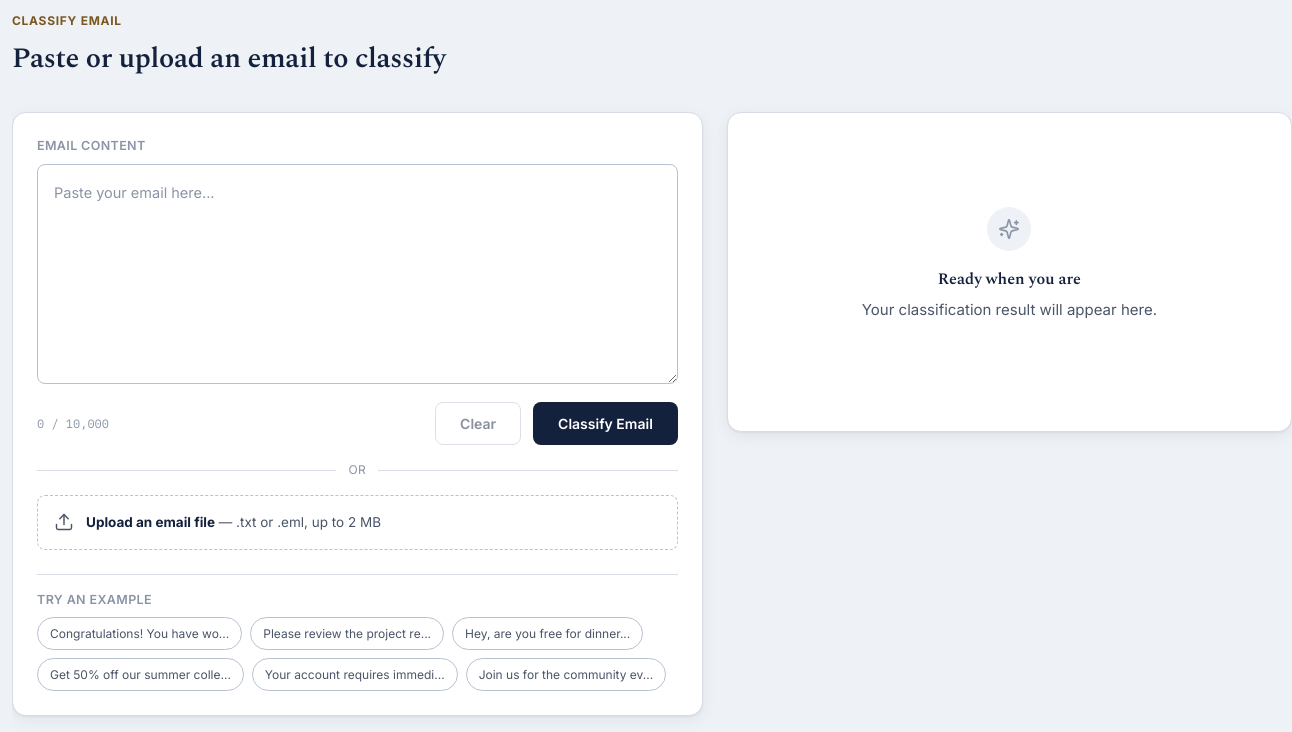
Test: ClassifyEmail › shows the prediction result after a successful classification
Type "You won a free prize!" into the text box labelled "Email content".
click(357, 274); type("You won a free prize!")  # box x1=37 y1=164 x2=678 y2=384
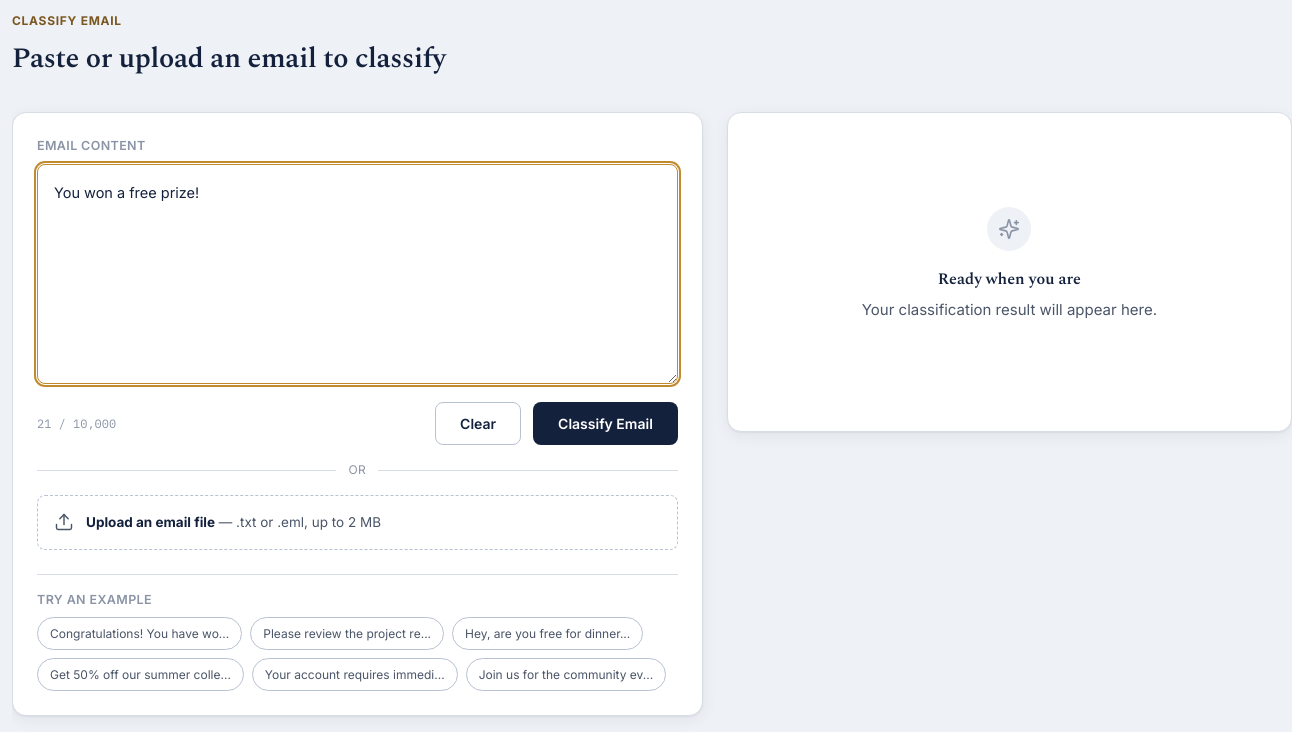
Click the button "Classify Email".
click(605, 424)  # box x1=533 y1=402 x2=678 y2=445
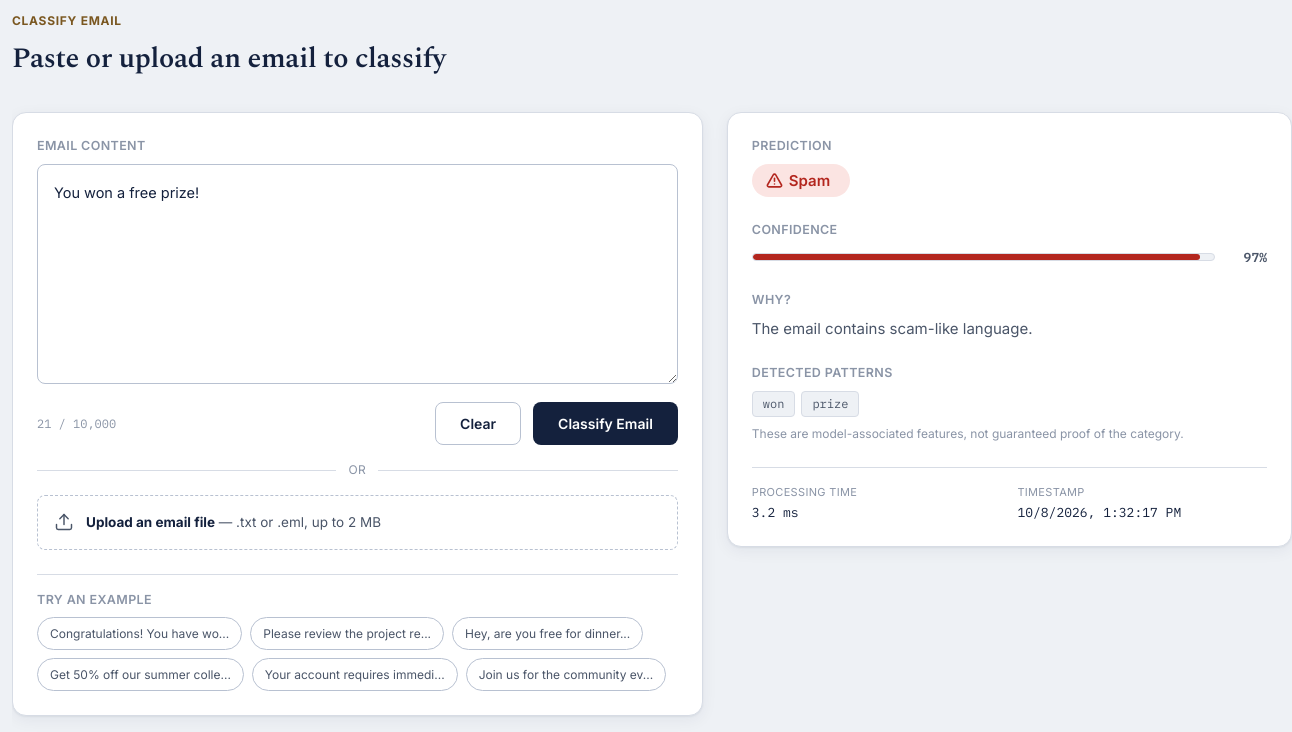
Expected: the text "Spam" is shown, x1=752 y1=164 x2=850 y2=197
Expected: the text "97%" is shown, x1=1244 y1=248 x2=1267 y2=266
